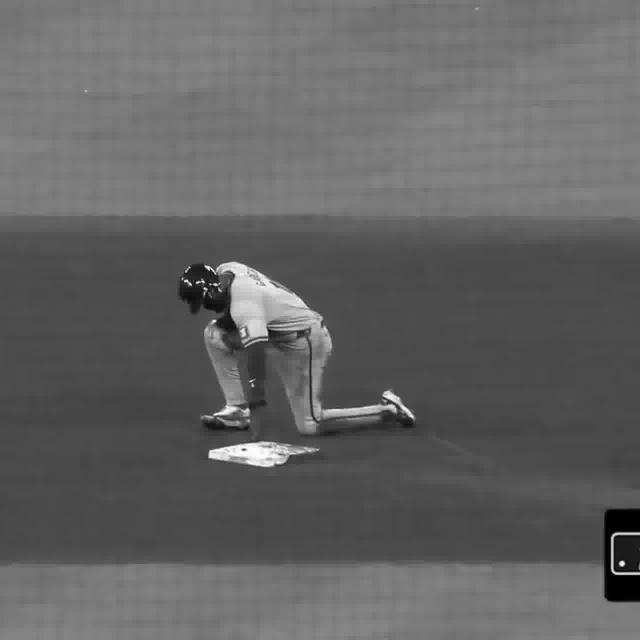base: (208, 444, 317, 466)
shoe: (383, 388, 417, 428), (202, 408, 250, 428)
